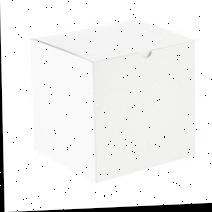cube: (25, 19, 201, 185)
